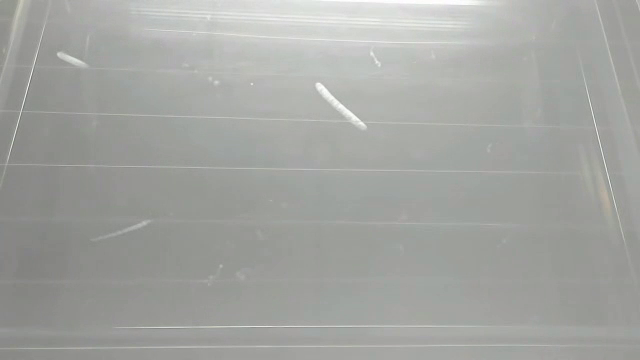alpha: (310, 78, 369, 132), (86, 216, 156, 247), (53, 47, 90, 74)
